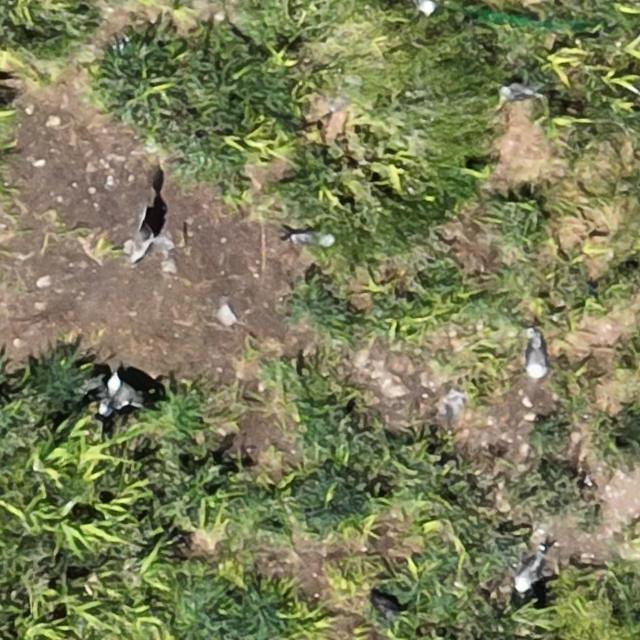umineko: (515, 556, 541, 590), (528, 334, 548, 376), (108, 378, 130, 409), (289, 231, 331, 246), (412, 0, 434, 13)
